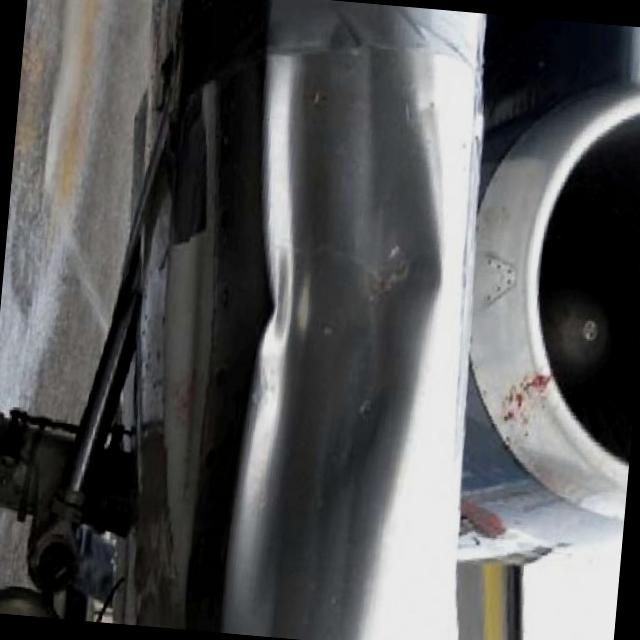dent: (220, 42, 456, 572)
